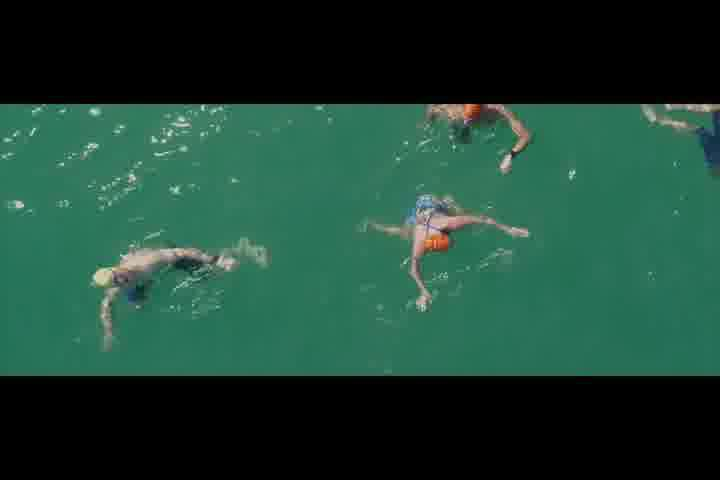swimmer: (368, 188, 540, 316), (89, 232, 249, 359), (408, 104, 538, 184)
